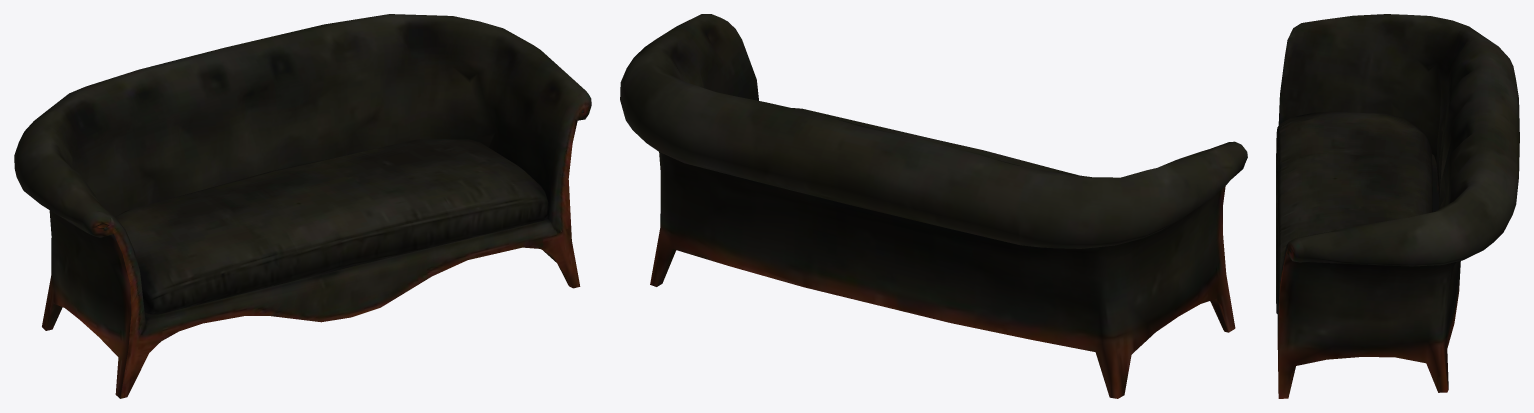
Rendered from ph-sofa-leather-low.glb.
3 renders of one model, left to right at view 1: azimuth 30°, elevation 25°; view 2: azimuth 150°, elevation 25°; view 3: azimuth 270°, elevation 25°, orthographic. The views are drawn at different scales.
Parts seen in each view (by area): view 1: sofa_02_Base, sofa_02_Seat; view 2: sofa_02_Base, sofa_02_Seat; view 3: sofa_02_Base, sofa_02_Seat.
Boxes of the visible parts, x1,y1,x2,y2 form: sofa_02_Base: (14,14,591,398); sofa_02_Seat: (115,139,549,314); sofa_02_Base: (620,14,1247,398); sofa_02_Seat: (792,108,1077,175); sofa_02_Base: (1277,14,1519,398); sofa_02_Seat: (1276,112,1432,314).
Size of the model in its own units: 1.81 by 0.7095 by 0.8158.
Materials: 1 (1 with a texture image).
